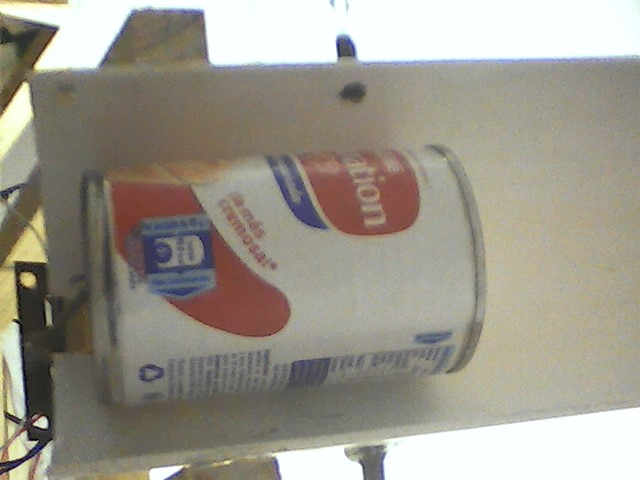lata: (71, 137, 495, 416)
